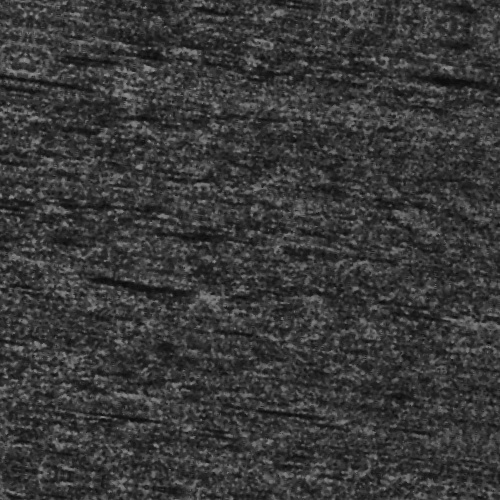object: (153, 293, 226, 304), (331, 400, 394, 405), (82, 77, 135, 82), (71, 106, 112, 111), (461, 48, 500, 53)
shadow: (95, 293, 189, 304), (264, 400, 362, 405), (395, 48, 488, 53), (31, 77, 108, 82), (15, 106, 91, 111)
